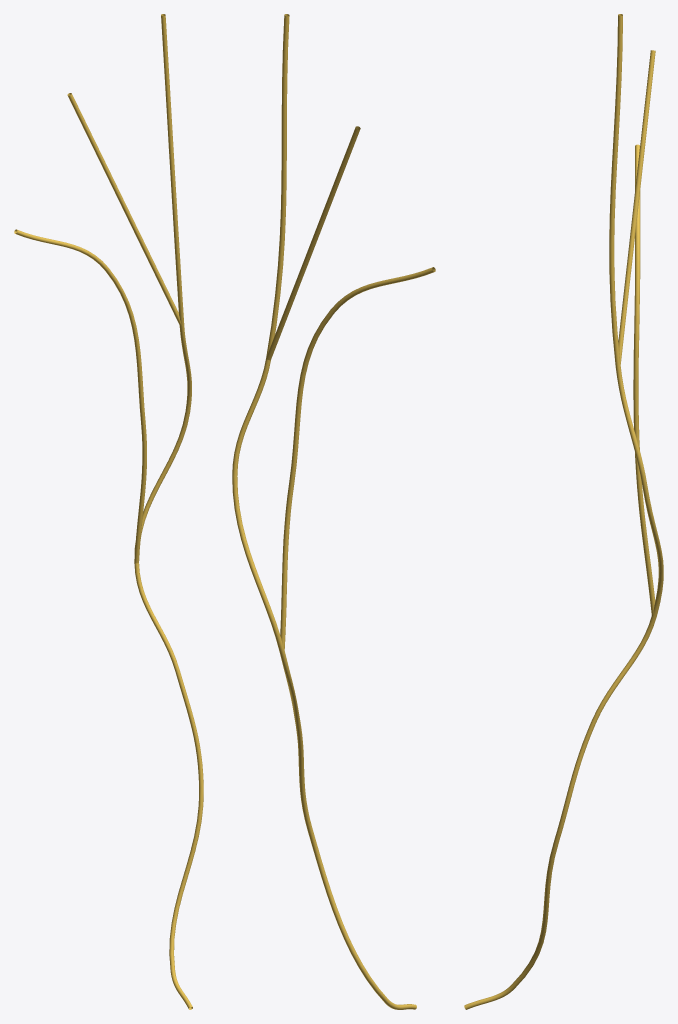
The model's file is Obturator_nerve_left.glb.
3 views of the same model, side by side, from view 1: azimuth 30°, elevation 25°; view 2: azimuth 150°, elevation 25°; view 3: azimuth 270°, elevation 25° (orthographic). The views are drawn at different scales.
Visible parts, largest first — view 1: Obturator_nerve.l_BezierCurve.497; view 2: Obturator_nerve.l_BezierCurve.497; view 3: Obturator_nerve.l_BezierCurve.497.
Part boxes in pixels (x1,y1,x2,y2): Obturator_nerve.l_BezierCurve.497: (14,14,203,1009); Obturator_nerve.l_BezierCurve.497: (232,14,435,1009); Obturator_nerve.l_BezierCurve.497: (464,14,663,1009).
Size of the model in its own units: 0.0437 by 0.218 by 0.0388.
